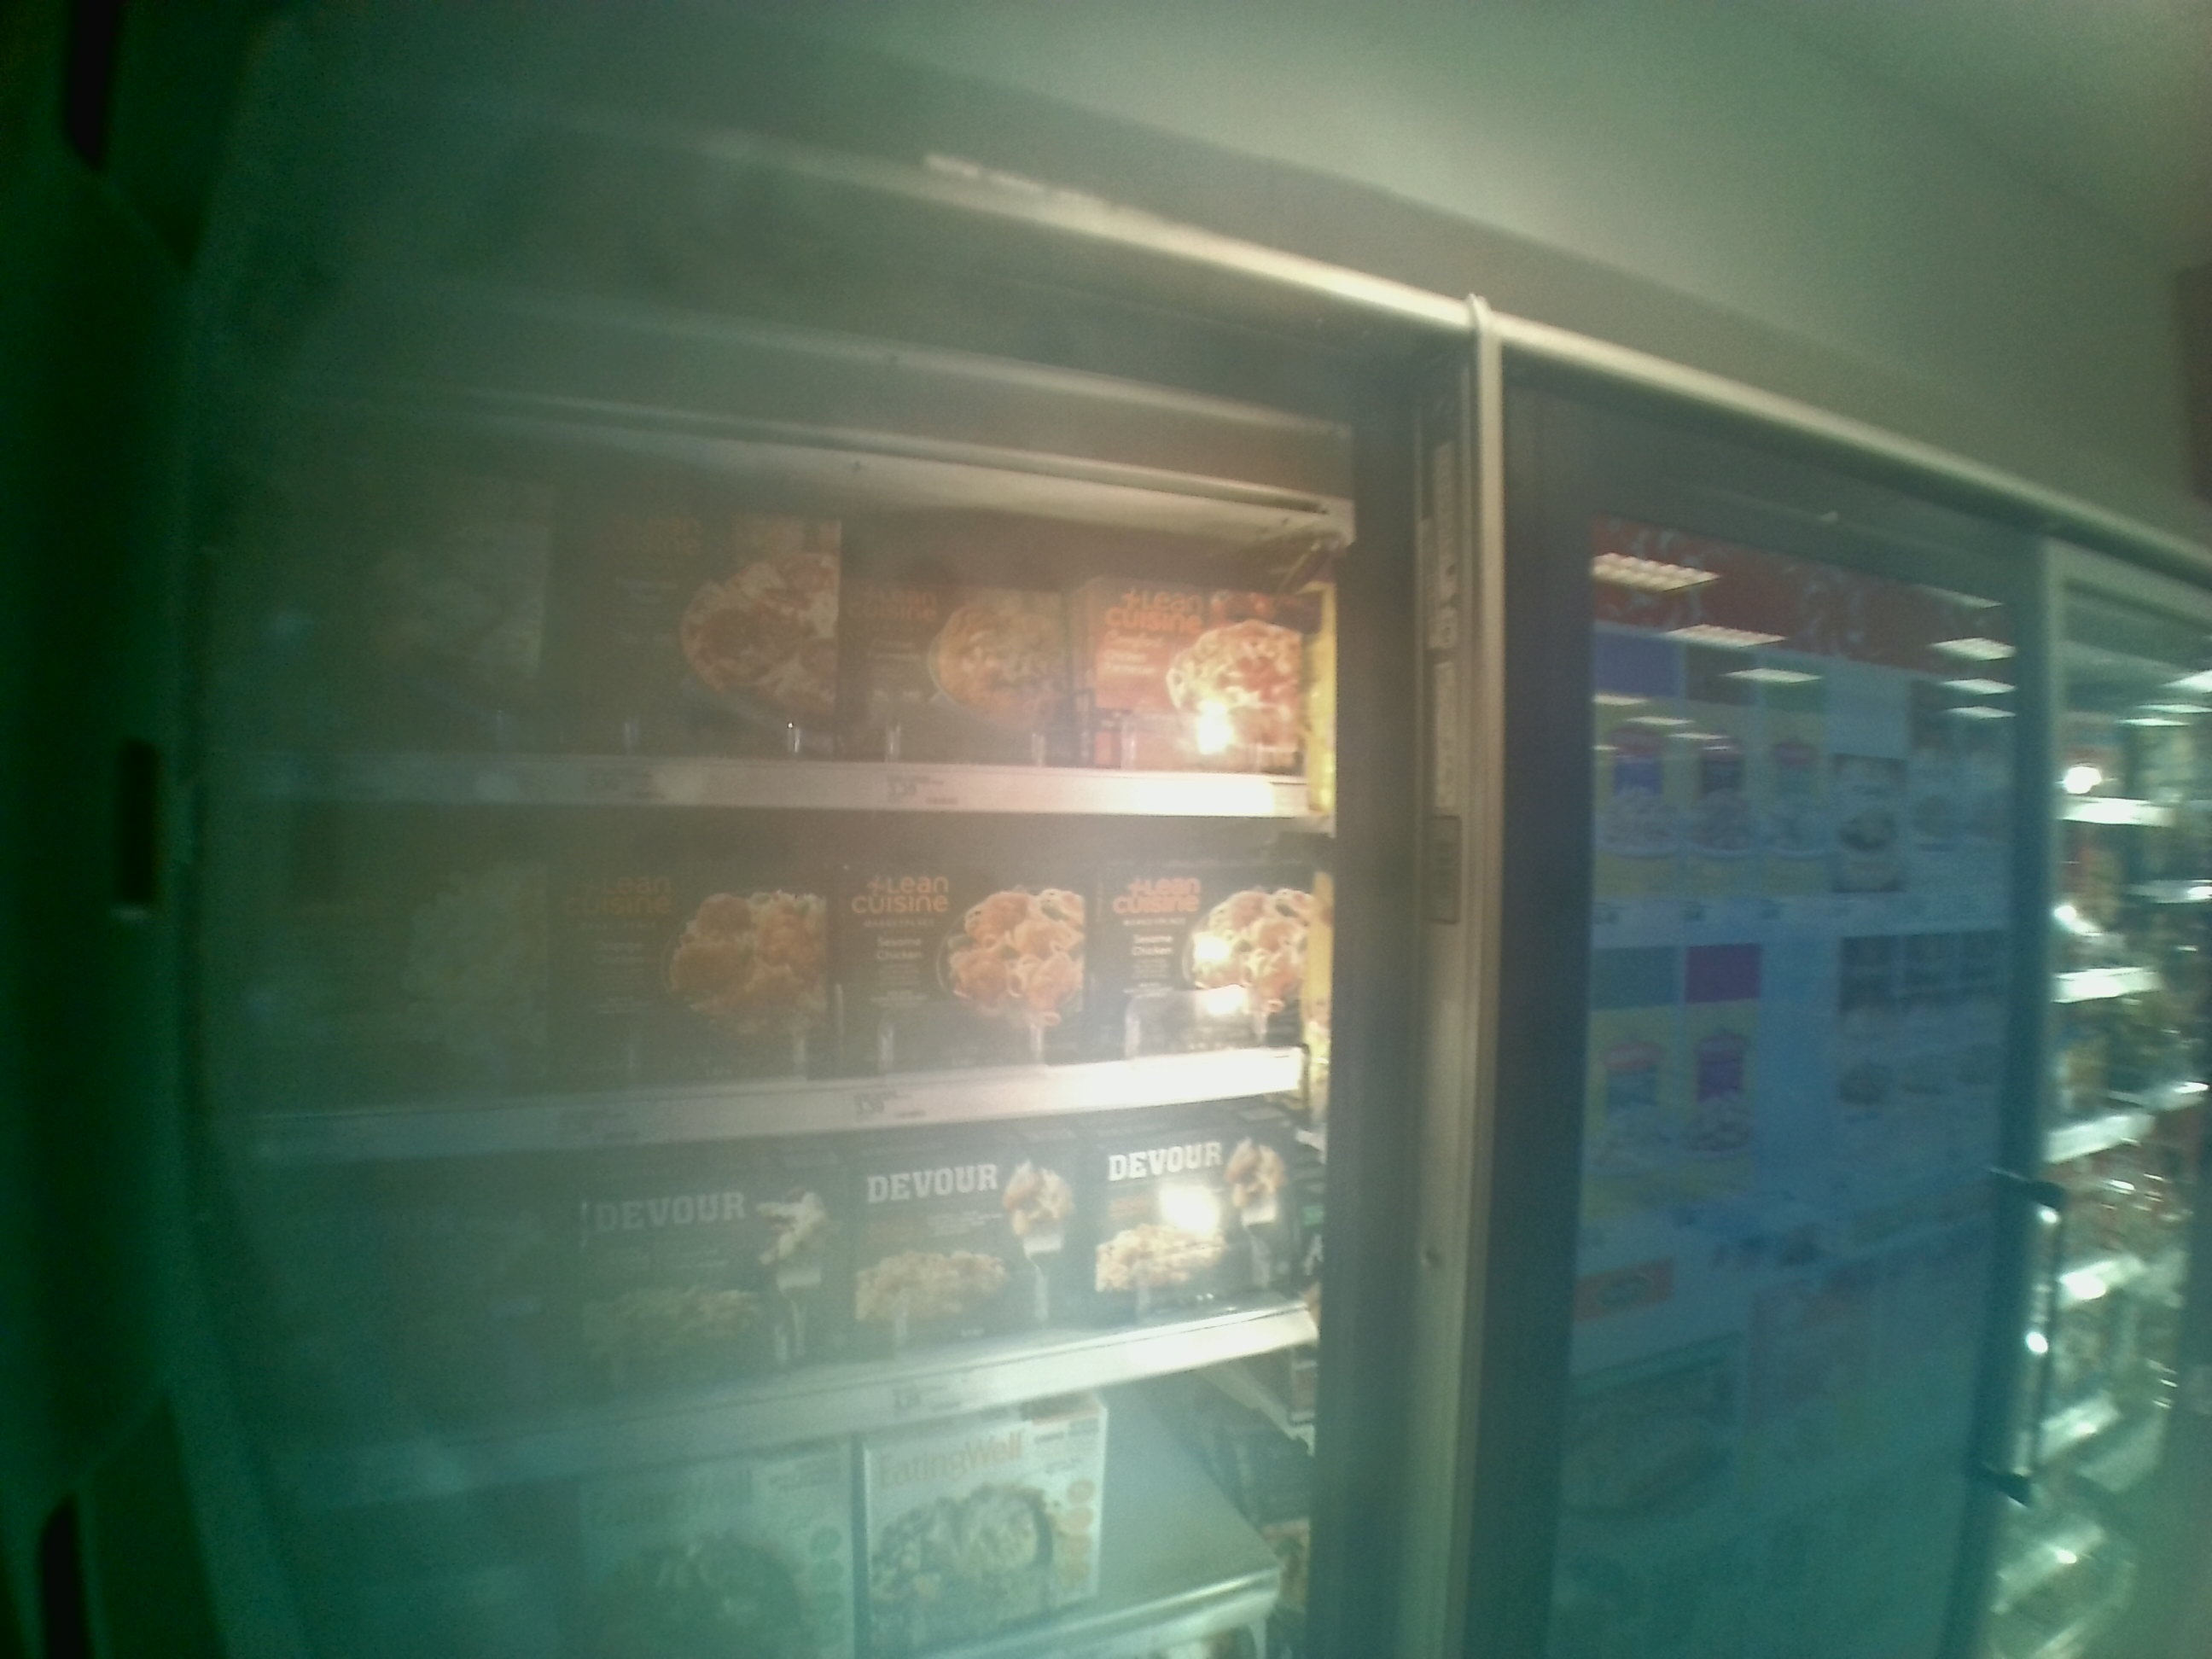shelf: (235, 1094, 1331, 1520), (235, 809, 1338, 1171)
